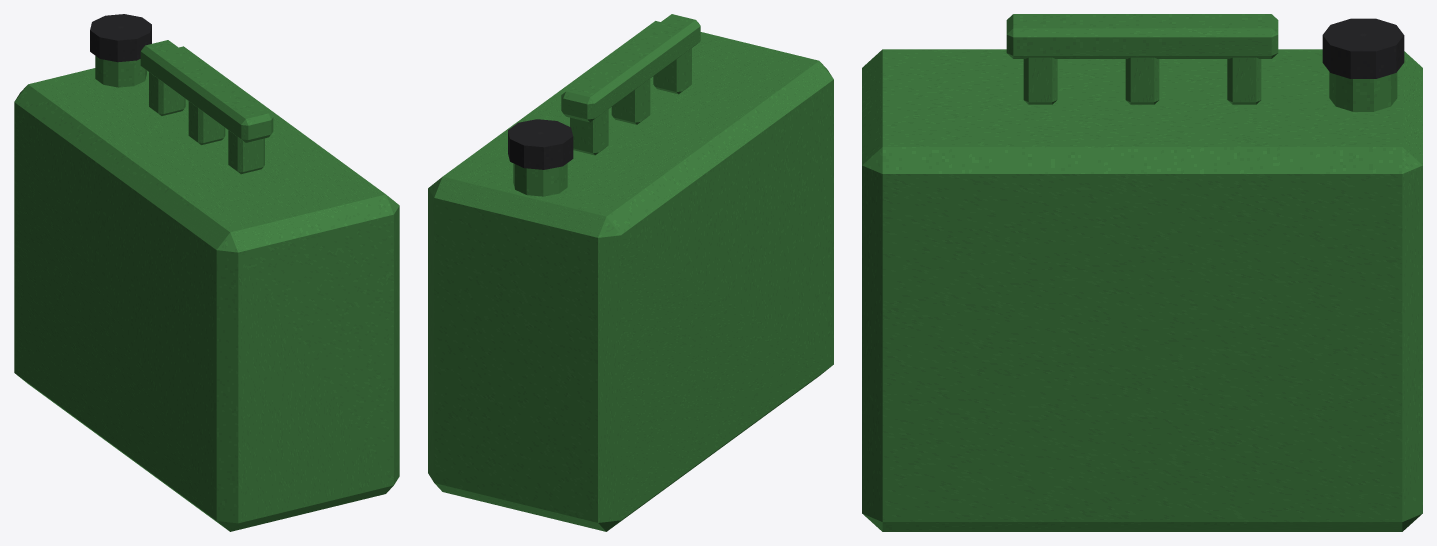
The model's file is jerrycan.glb.
The picture shows the model from 3 angles, left to right: view 1: azimuth 30°, elevation 25°; view 2: azimuth 150°, elevation 25°; view 3: azimuth 270°, elevation 25°; orthographic projection. The views are drawn at different scales.
Visible parts, largest first — view 1: block_body, block_grip, block_cap, block_spout, block_bar0.06, block_bar0, block_bar-0.06; view 2: block_body, block_grip, block_cap, block_spout, block_bar-0.06, block_bar0, block_bar0.06; view 3: block_body, block_grip, block_cap, block_spout, block_bar-0.06, block_bar0, block_bar0.06.
Part boxes in pixels (box(x1,y1,x2,y2)): block_body: box(14, 46, 399, 531); block_grip: box(140, 40, 273, 142); block_cap: box(90, 14, 151, 62); block_spout: box(95, 56, 146, 87); block_bar0.06: box(228, 130, 264, 174); block_bar0: box(188, 101, 225, 145); block_bar-0.06: box(149, 72, 185, 115); block_body: box(428, 21, 833, 531); block_grip: box(561, 14, 700, 122); block_cap: box(508, 119, 573, 169); block_spout: box(513, 163, 567, 196); block_bar-0.06: box(570, 109, 608, 155); block_bar0: box(611, 78, 650, 124); block_bar0.06: box(653, 48, 691, 94); block_body: box(862, 49, 1422, 531); block_grip: box(1006, 14, 1278, 58); block_cap: box(1322, 18, 1404, 78); block_spout: box(1329, 72, 1397, 111); block_bar-0.06: box(1227, 57, 1261, 104); block_bar0: box(1125, 57, 1159, 104); block_bar0.06: box(1023, 57, 1057, 104).
Size of the model in its own units: 0.16 by 0.3 by 0.33.
Materials: 1 (1 with a texture image).
